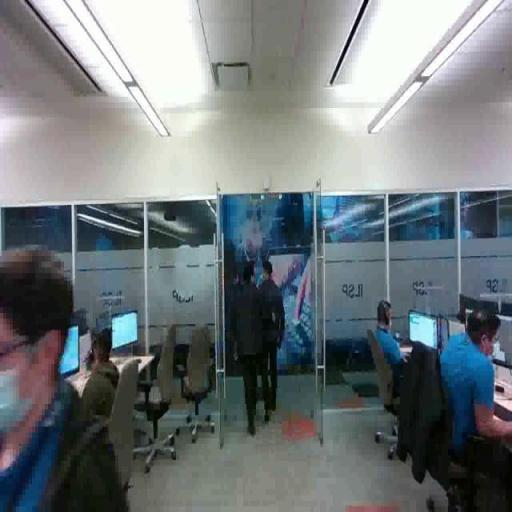person: (1, 244, 131, 512), (424, 305, 512, 496), (360, 298, 444, 444), (74, 318, 137, 471), (235, 256, 272, 440), (259, 261, 286, 427)
